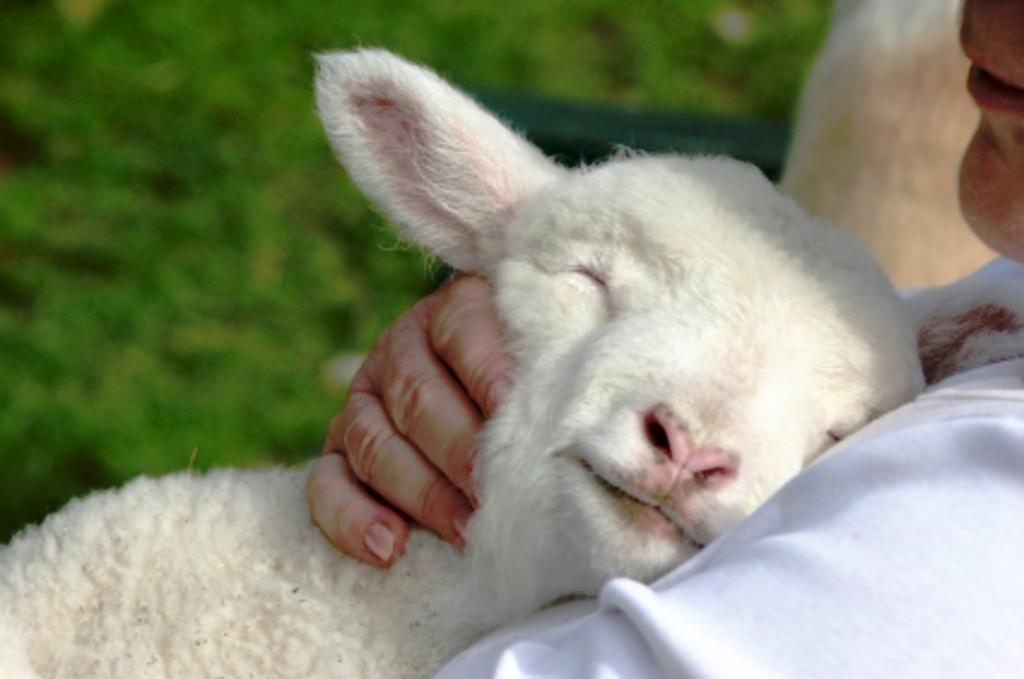Sheep: (0, 41, 1022, 677)
